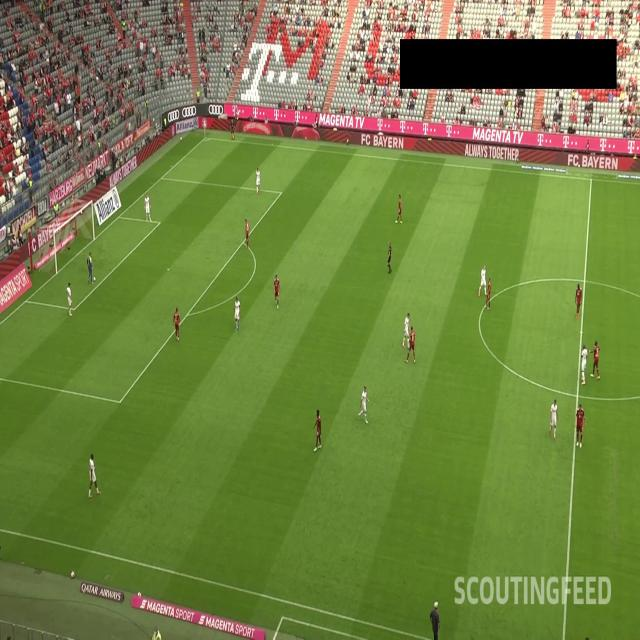ball: (92, 273, 97, 282)
player: (86, 451, 101, 500), (574, 402, 588, 448), (357, 384, 371, 424), (311, 406, 323, 452), (547, 397, 559, 443), (401, 309, 414, 350), (589, 338, 601, 382), (405, 323, 416, 364), (477, 263, 488, 300), (232, 295, 242, 331), (580, 343, 588, 387), (483, 272, 492, 310), (394, 192, 404, 226), (143, 192, 153, 224), (65, 278, 73, 316), (273, 273, 281, 311), (574, 282, 582, 319), (86, 249, 94, 285), (172, 305, 180, 341), (244, 217, 250, 248), (255, 165, 261, 196)
referee: (385, 237, 393, 275), (228, 117, 238, 143)
